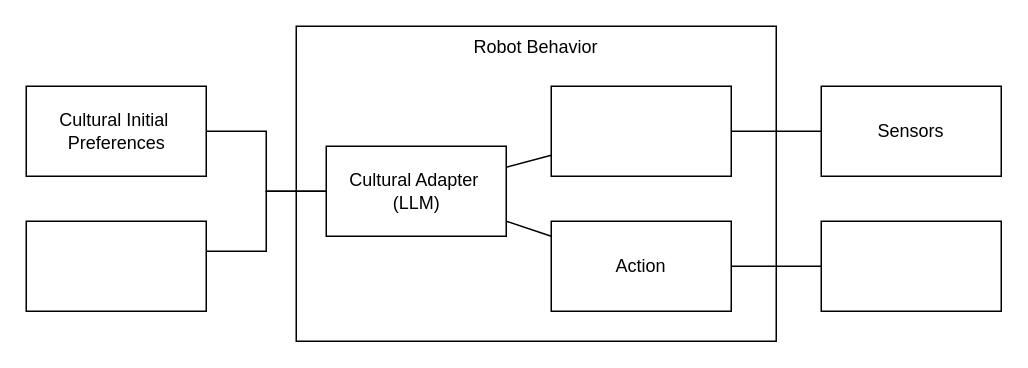
This 1028x368 diagram has some shape labels left out. Each missing label, with the centre of its shape:
Actuators: point 910,265
Perception: point 640,130
User Preferences: point 115,265
